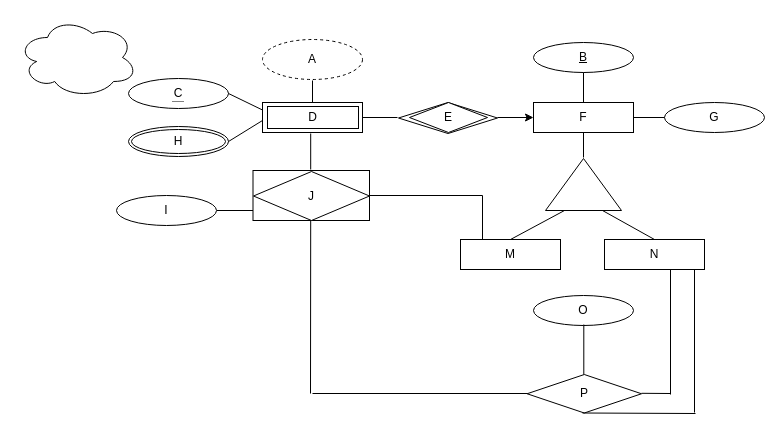
The diagram is 782 pixels wide and 432 high, and some of its shapes have lost their labels. The shapes that lost their labels are listed below. From the top down, each one's centre as x and y in pixels, then its label:
At (x=77, y=57): "jw6602".
At (x=583, y=184): "K, L".
